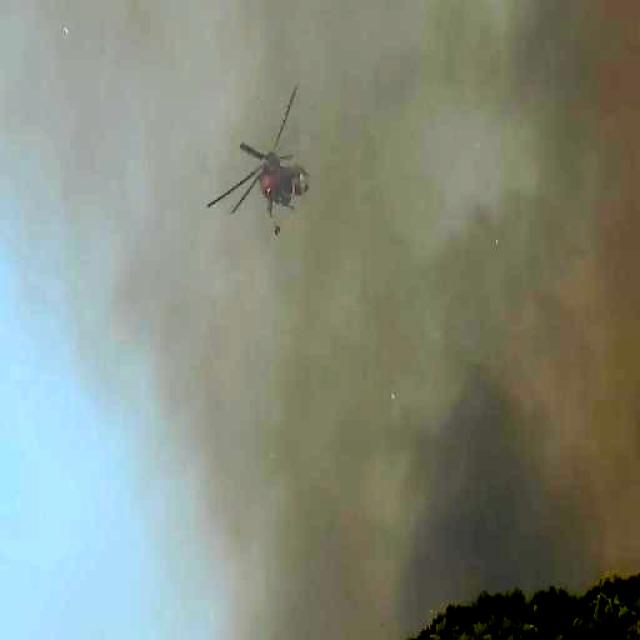drone: (198, 108, 338, 255)
